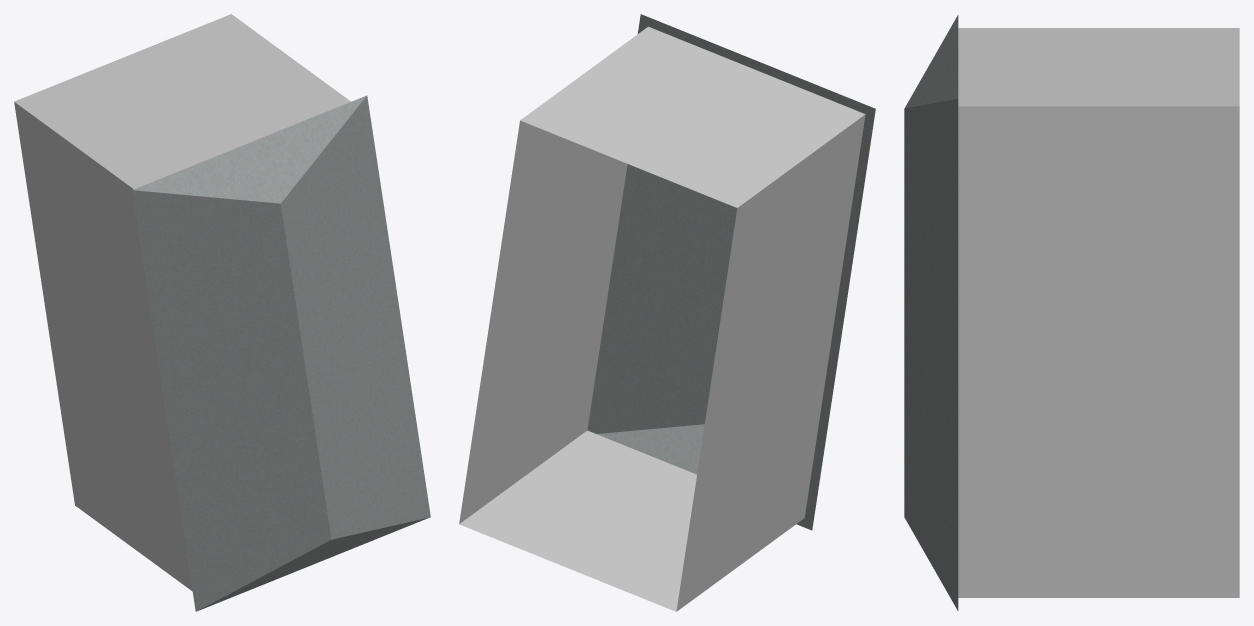
Rendered from Suur-Kloostri_7_2.obj.
3 renders of one model, left to right at view 1: azimuth 30°, elevation 25°; view 2: azimuth 150°, elevation 25°; view 3: azimuth 270°, elevation 25°, orthographic. The views are drawn at different scales.
Parts seen in each view (by area): view 1: Box001; view 2: Box001; view 3: Box001.
Boxes of the visible parts, <box> form: Box001: <box>14,14,430,611</box>; Box001: <box>459,14,875,611</box>; Box001: <box>904,15,1239,610</box>.
Bounding box in the file's own units: 3.31 × 5.03 × 2.94.
